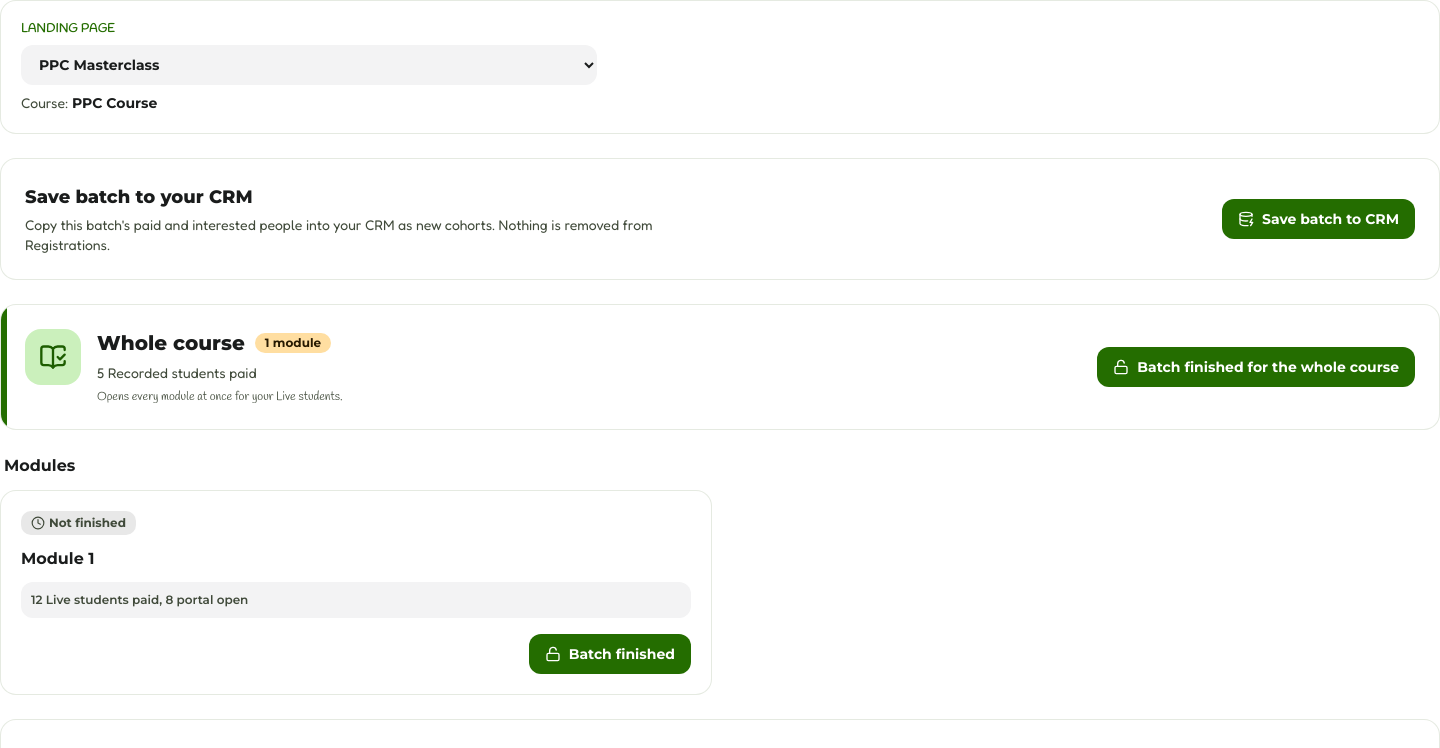
it: Save batch to CRM › shows the skipped count when some people cannot be copied
The image size is (1440, 748).
Expected: the heading "Module 1" is shown, [21,549,94,568]
Click the button "Save batch to CRM".
click(1318, 219)  # box [1222,199,1415,239]
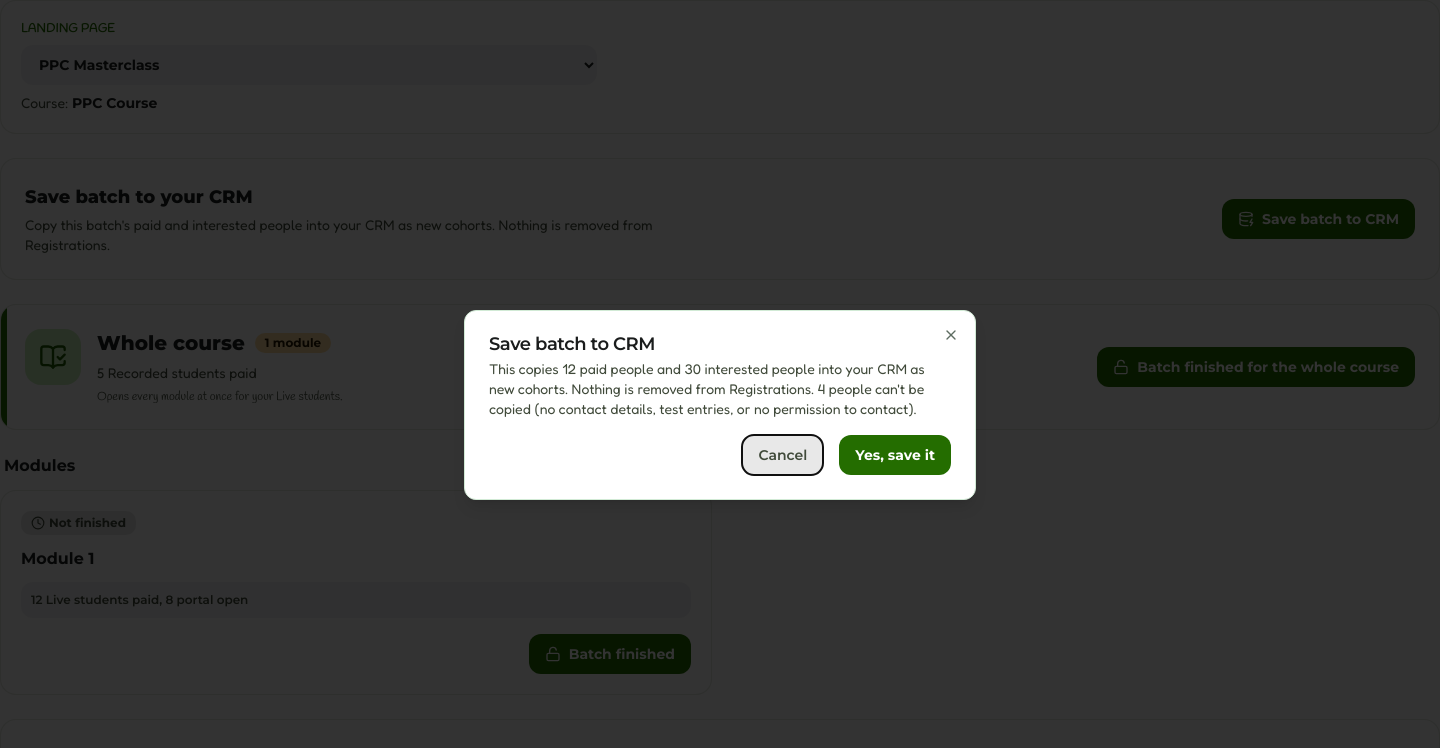
Result: the text "4 people can't be copied (no contact details, test entries, or no permission to contact)." is shown at [489,360,925,417]
